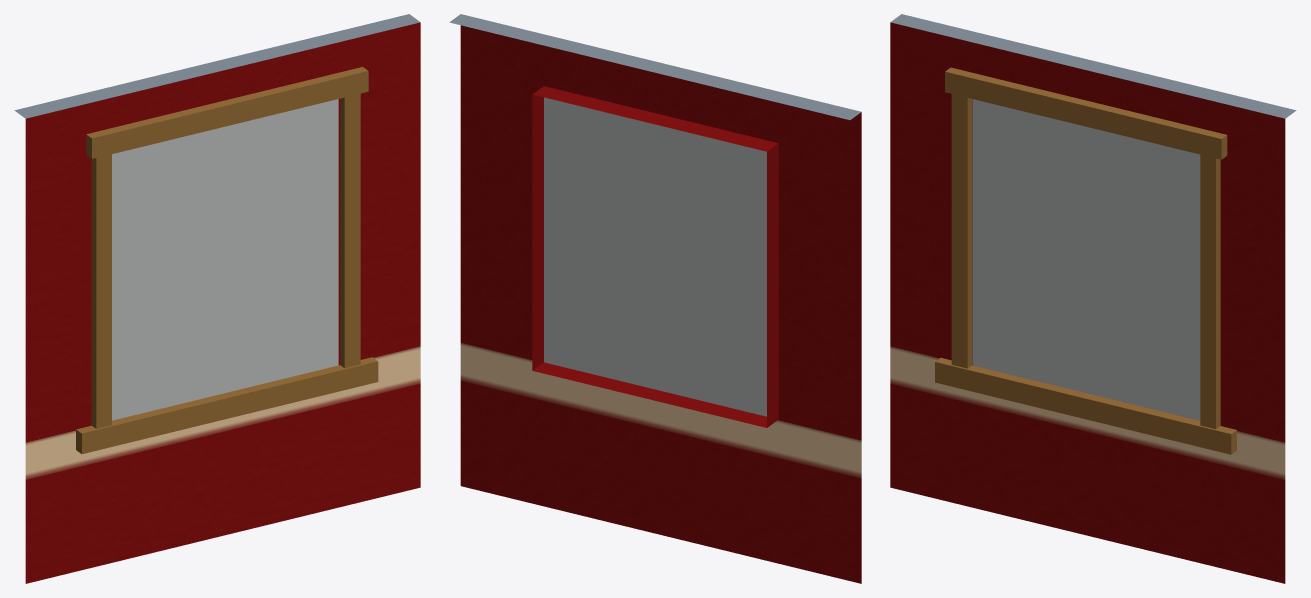
Rendered from RoomOutsideWindowWall_MeetingRoom.fbx.
3 views of the same model, side by side, from view 1: azimuth 30°, elevation 25°; view 2: azimuth 150°, elevation 25°; view 3: azimuth 330°, elevation 25° (orthographic).
Visible parts, largest first — view 1: Wall_Window.080; view 2: Wall_Window.080; view 3: Wall_Window.080.
Boxes of the visible parts, x1,y1,x2,y2 form: Wall_Window.080: (14, 14, 420, 583); Wall_Window.080: (449, 14, 861, 583); Wall_Window.080: (890, 14, 1296, 583).
Bounding box in the file's own units: 2 × 2.25 × 0.1502.
